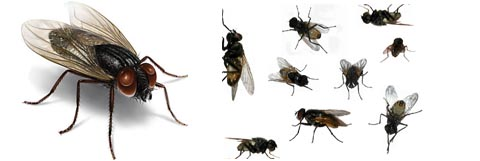fly: (20, 1, 189, 160), (367, 84, 424, 158), (215, 7, 259, 101), (280, 3, 337, 59), (289, 107, 354, 148), (268, 55, 320, 100), (333, 56, 373, 103), (359, 1, 415, 29), (225, 133, 282, 160), (377, 34, 417, 65)
